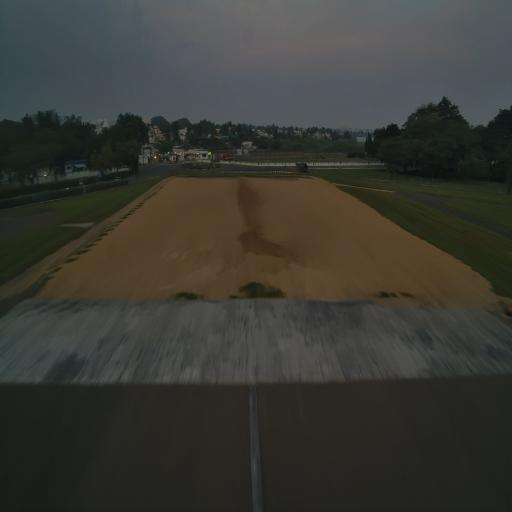on: (508, 303, 512, 316)
